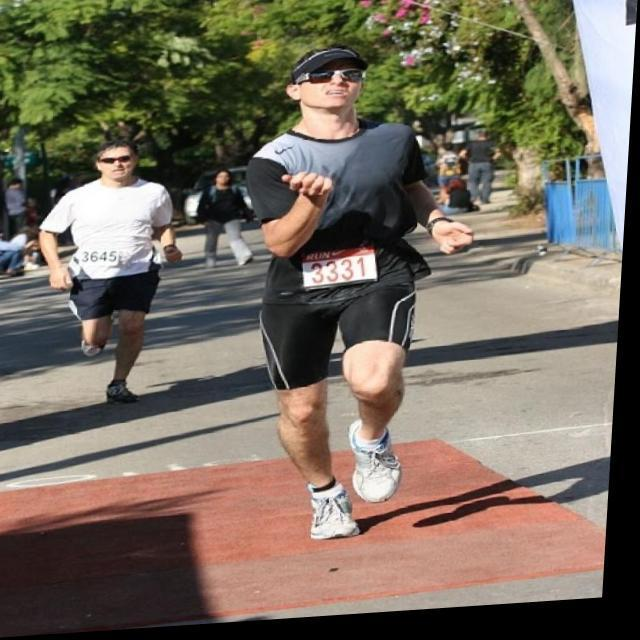dorsal: (300, 250, 387, 294), (78, 249, 128, 272)
